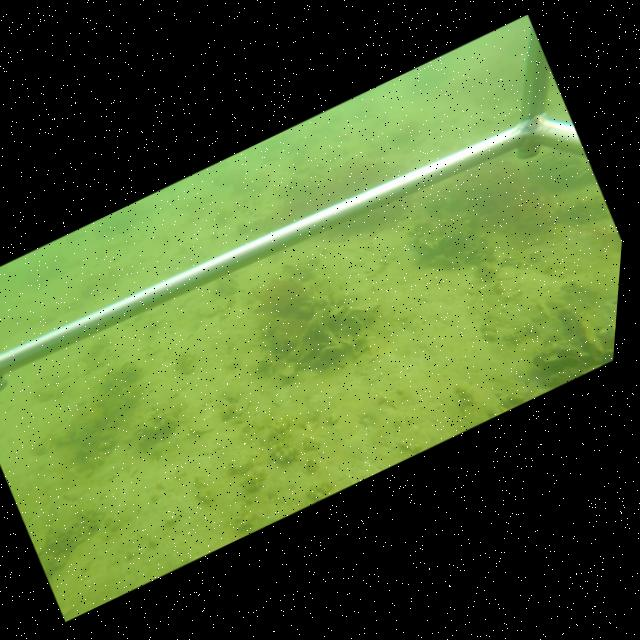Oyster-Closed: (323, 325, 346, 348), (319, 345, 346, 363)
Oyster-Indeterminate: (337, 313, 364, 339)
